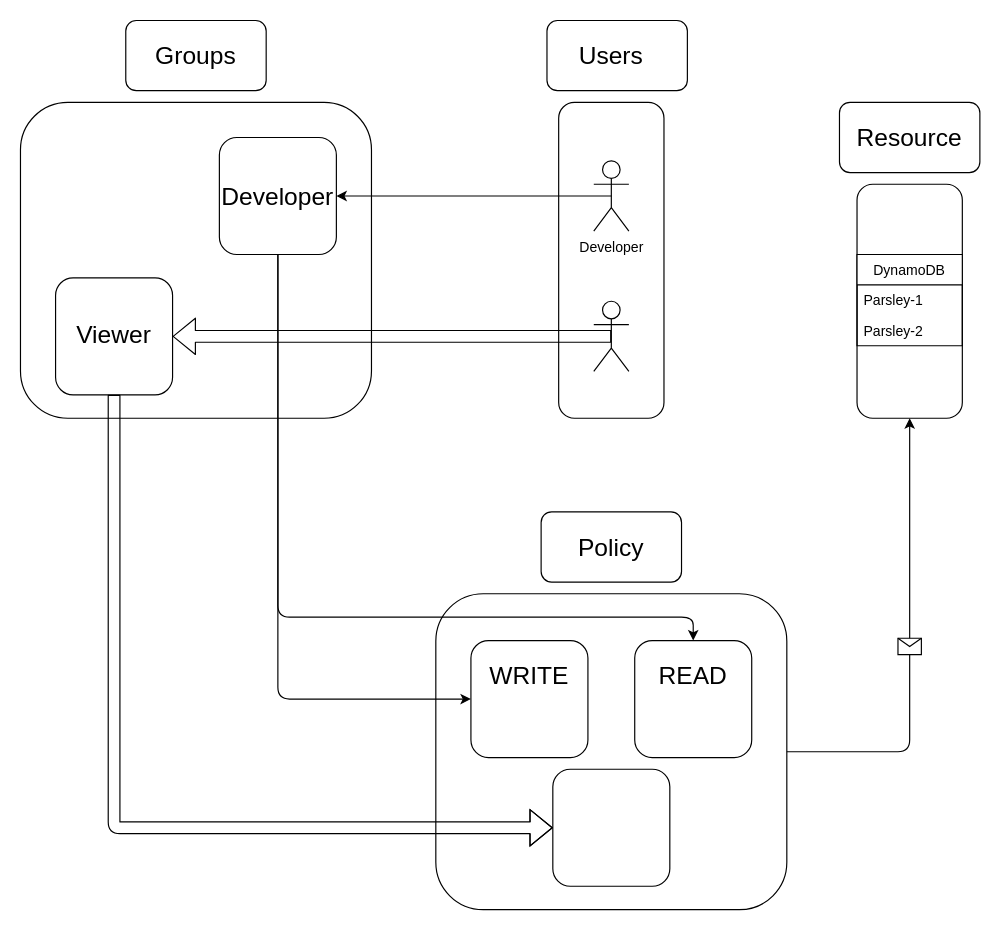
The diagram is 1000 pixels wide and 930 high, and some of its shapes have lost their labels. The shapes that lost their labels are listed below. From the top down, each one's centre as x and y in pixels, then its label:
At point 611,335: "Manger".
At point 611,827: "Limited READ".
